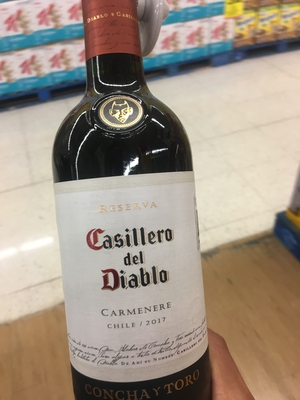casillero del diablo carmenere: (45, 25, 219, 400)
